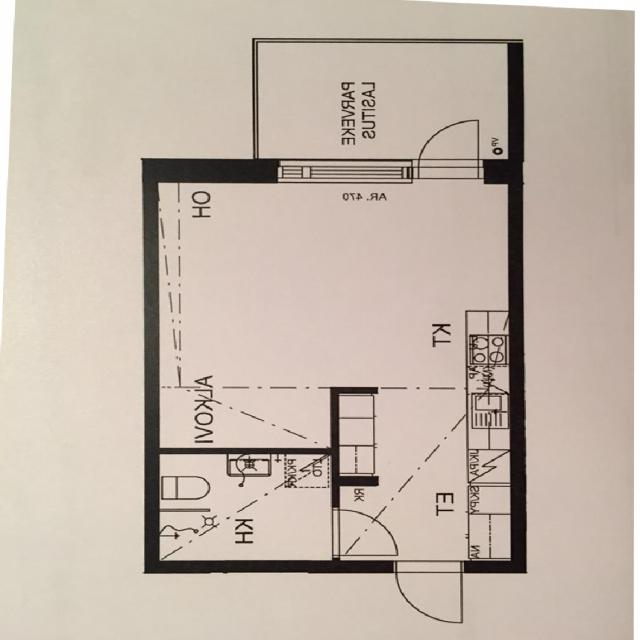door: (418, 113, 479, 183), (397, 560, 462, 622), (331, 509, 401, 556)
